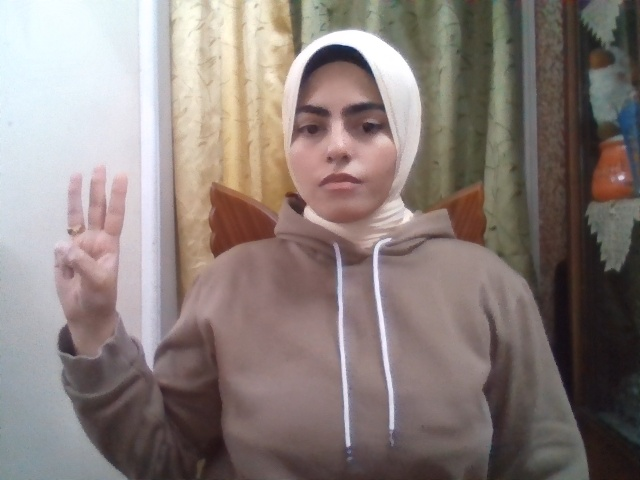W: (52, 164, 128, 325)
